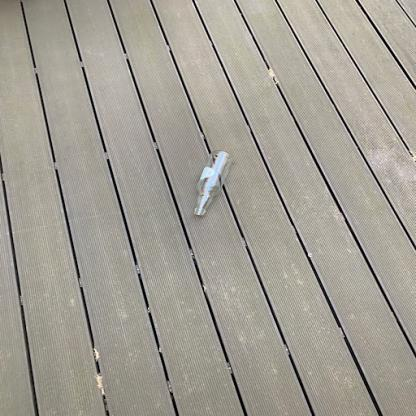trash: (187, 150, 234, 218)
